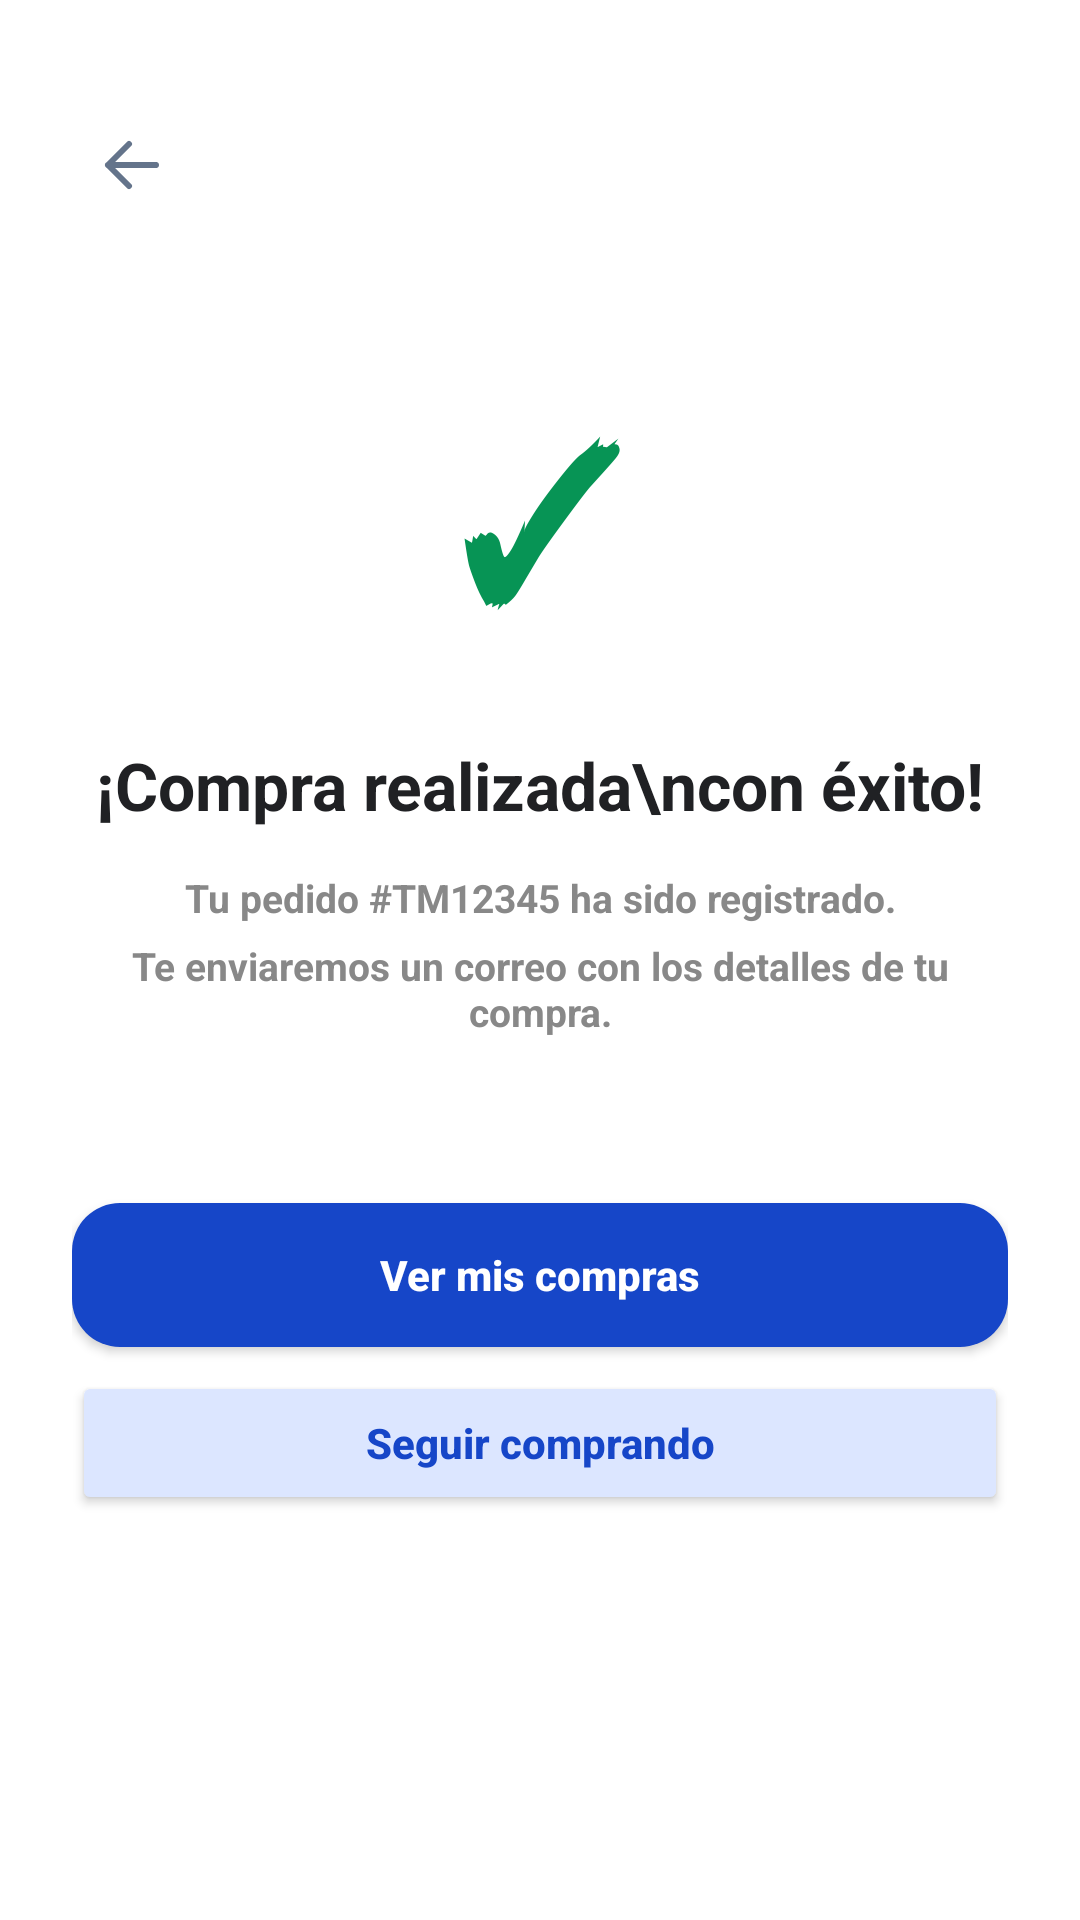

Where to tap for icons on this 1080x1920 app screen, as (x=x, y=y):
Volver: (x=132, y=165)
